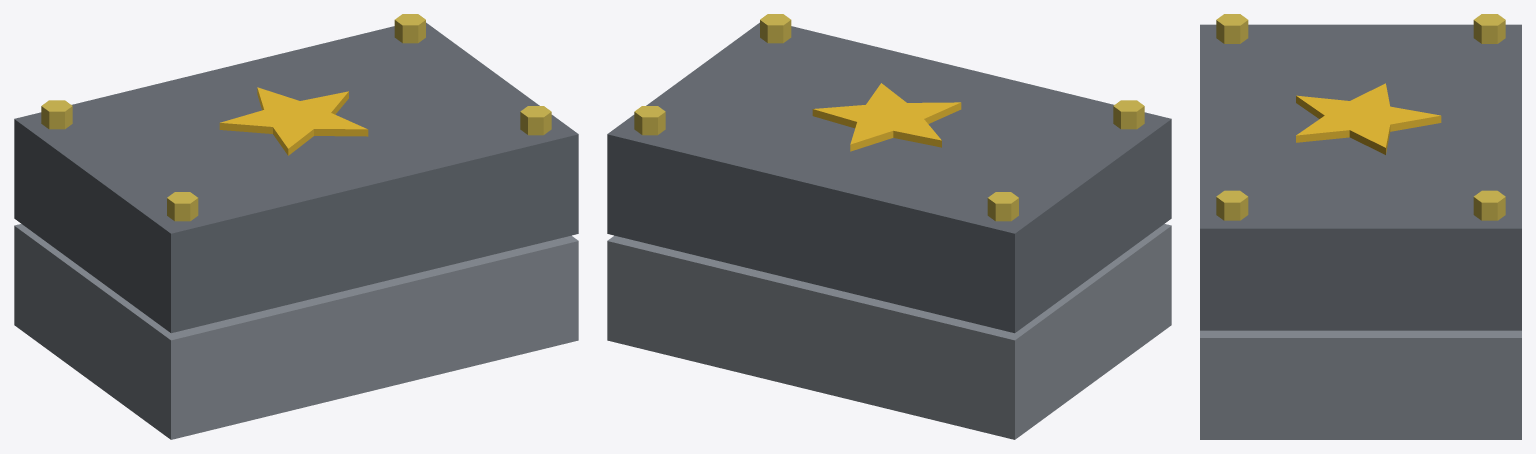
File: stolen_mold.glb
The picture shows the model from 3 angles, left to right: view 1: azimuth 30°, elevation 25°; view 2: azimuth 150°, elevation 25°; view 3: azimuth 270°, elevation 25°; orthographic projection. The views are drawn at different scales.
Visible parts, largest first — view 1: halves_mold_steel_dark, halves_mold_steel, star_captain_star, bolts_bolt (×4); view 2: halves_mold_steel_dark, halves_mold_steel, star_captain_star, bolts_bolt (×4); view 3: halves_mold_steel_dark, halves_mold_steel, star_captain_star, bolts_bolt (×4).
Part boxes in pixels (left/top/right/bottom): halves_mold_steel_dark: left=14, top=22, right=578, bottom=333; halves_mold_steel: left=14, top=224, right=578, bottom=439; star_captain_star: left=219, top=87, right=368, bottom=155; bolts_bolt (×4): left=41, top=14, right=551, bottom=221; halves_mold_steel_dark: left=607, top=22, right=1171, bottom=333; halves_mold_steel: left=607, top=224, right=1171, bottom=439; star_captain_star: left=812, top=83, right=961, bottom=151; bolts_bolt (×4): left=634, top=14, right=1144, bottom=221; halves_mold_steel_dark: left=1200, top=24, right=1521, bottom=330; halves_mold_steel: left=1200, top=330, right=1521, bottom=439; star_captain_star: left=1296, top=83, right=1441, bottom=154; bolts_bolt (×4): left=1216, top=14, right=1505, bottom=220.
Size of the model in its own units: 0.6 by 0.315 by 0.4.
